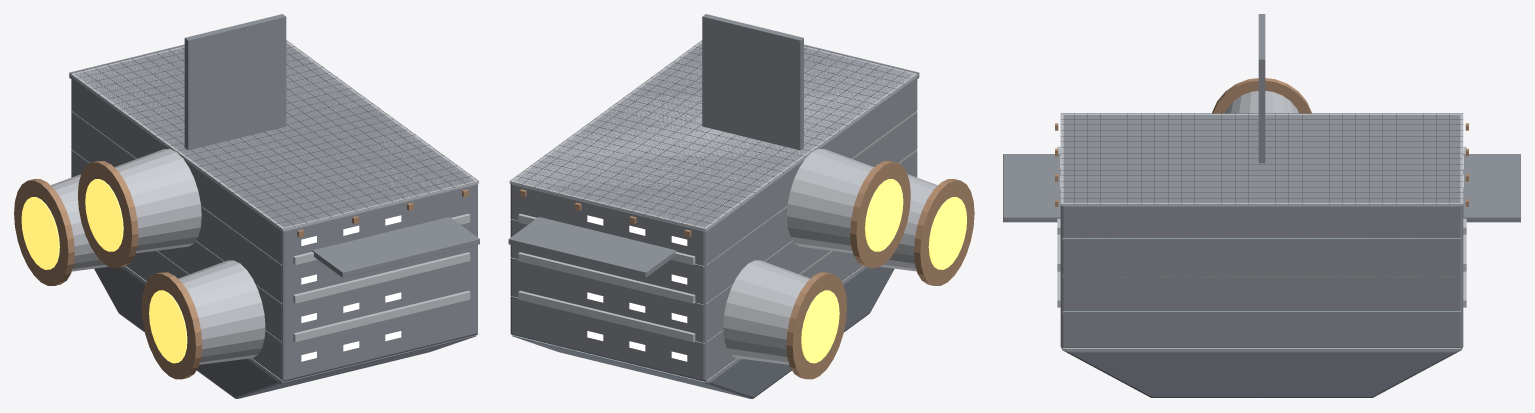
File: ship_stern_30x16.glb
The picture shows the model from 3 angles, left to right: view 1: azimuth 30°, elevation 25°; view 2: azimuth 150°, elevation 25°; view 3: azimuth 270°, elevation 25°; orthographic projection. The views are drawn at different scales.
Parts seen in each view (by area): view 1: ext_hull, ext_fin_top, ext_deck_top, ext_deck_grid, ext_engine0, ext_engine2, ext_fins, ext_hull_belly, ext_armor_plates, ext_engine_ring0, ext_engine_ring2, ext_engine_ring1 (+4 smaller); view 2: ext_hull, ext_deck_top, ext_fin_top, ext_deck_grid, ext_engine1, ext_engine2, ext_fins, ext_hull_belly, ext_armor_plates, ext_engine_ring1, ext_engine_ring2, ext_engine_ring0 (+4 smaller); view 3: ext_hull, ext_hull_belly, ext_deck_grid, ext_fins, ext_deck_top, ext_engine_ring2, int_deck0, ext_fin_top, ext_engine2, ext_armor_plates, int_deck2.
Boxes of the visible parts, <box> form: ext_hull: <box>71,43,477,381</box>; ext_fin_top: <box>184,14,286,150</box>; ext_deck_top: <box>70,41,478,231</box>; ext_deck_grid: <box>70,40,478,229</box>; ext_engine0: <box>178,260,265,364</box>; ext_engine2: <box>114,149,201,253</box>; ext_fins: <box>69,44,479,277</box>; ext_hull_belly: <box>94,266,476,398</box>; ext_armor_plates: <box>293,213,470,342</box>; ext_engine_ring0: <box>141,272,202,379</box>; ext_engine_ring2: <box>77,161,138,267</box>; ext_engine_ring1: <box>14,179,74,285</box>; ext_hull: <box>510,43,917,381</box>; ext_deck_top: <box>509,41,918,231</box>; ext_fin_top: <box>702,14,803,150</box>; ext_deck_grid: <box>509,40,918,229</box>; ext_engine1: <box>723,260,810,364</box>; ext_engine2: <box>787,149,874,253</box>; ext_fins: <box>508,44,919,277</box>; ext_hull_belly: <box>512,266,894,398</box>; ext_armor_plates: <box>518,213,695,342</box>; ext_engine_ring1: <box>786,272,846,379</box>; ext_engine_ring2: <box>850,161,910,267</box>; ext_engine_ring0: <box>914,179,974,285</box>; ext_hull: <box>1060,115,1463,348</box>; ext_hull_belly: <box>1062,349,1461,397</box>; ext_deck_grid: <box>1061,113,1462,204</box>; ext_fins: <box>1003,154,1520,222</box>; ext_deck_top: <box>1060,113,1463,206</box>; ext_engine_ring2: <box>1212,78,1311,113</box>; int_deck0: <box>1062,348,1461,350</box>; ext_fin_top: <box>1258,14,1265,163</box>; ext_engine2: <box>1225,91,1298,113</box>; ext_armor_plates: <box>1057,146,1466,307</box>; int_deck2: <box>1062,275,1461,277</box>.
Bounding box in the file's own units: 21.92 × 24.57 × 38.57.
